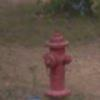a fire hydrant: (40, 29, 74, 99)
